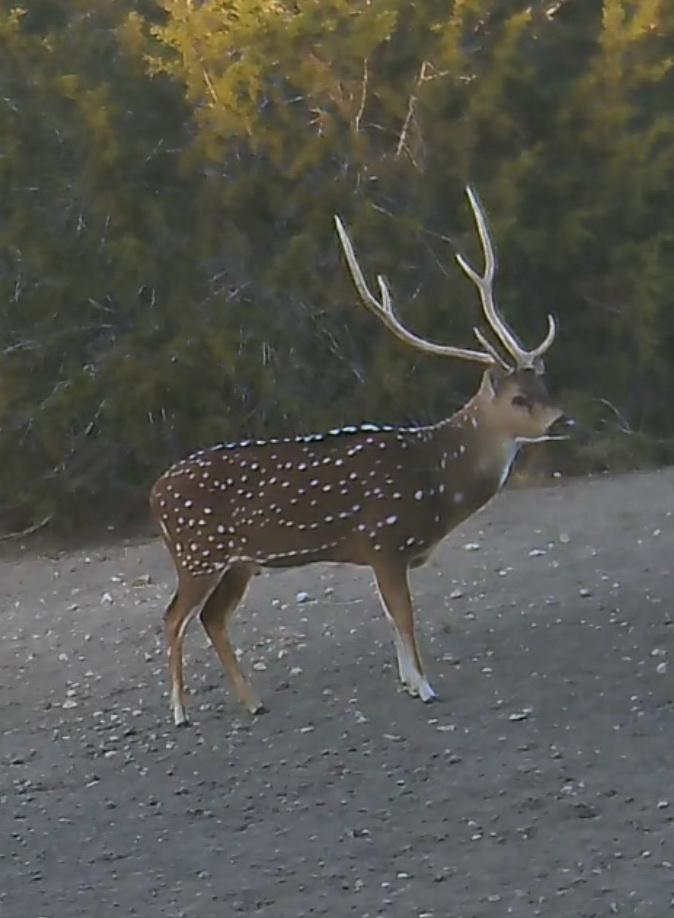Deer: (150, 187, 567, 725)
